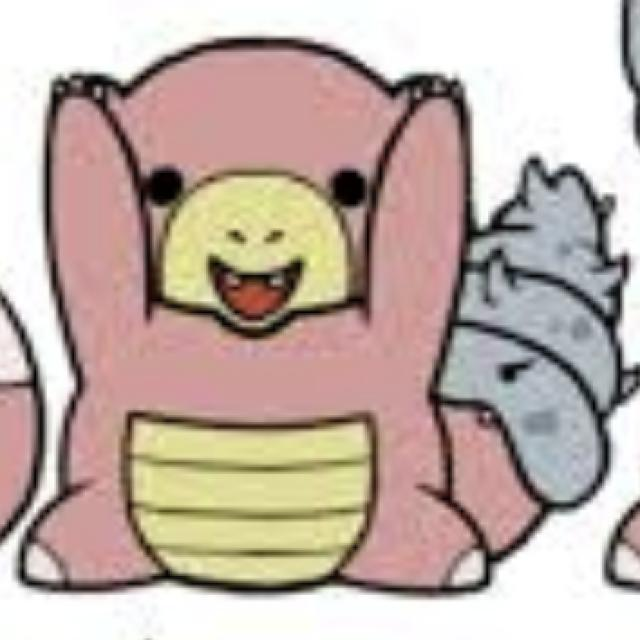Slowbro: (32, 52, 558, 598)
